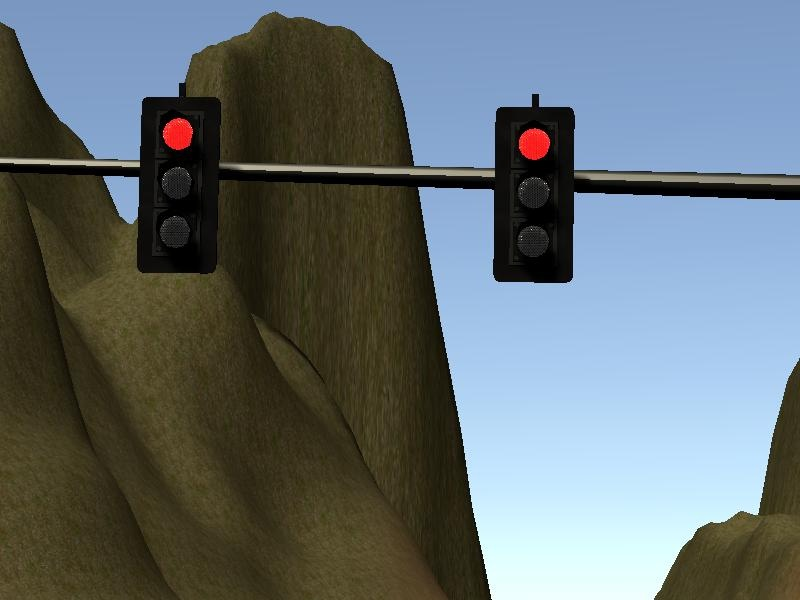red: (132, 95, 222, 275), (490, 104, 577, 284)
